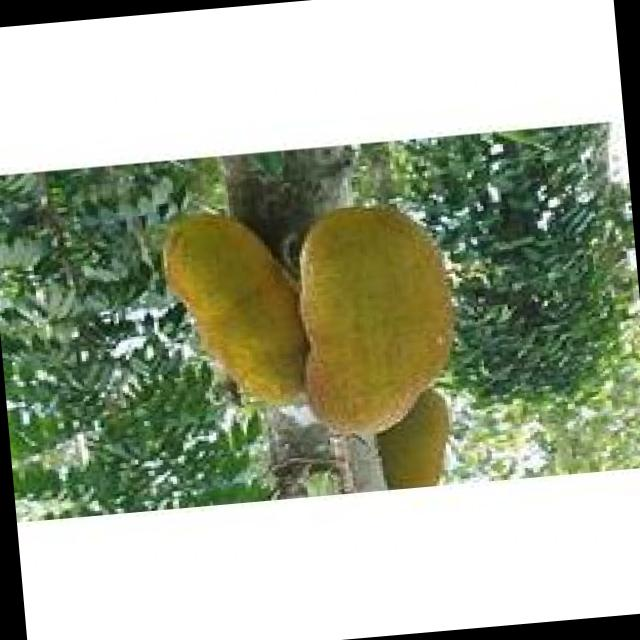Fruit: (272, 180, 478, 458), (140, 188, 328, 432)
